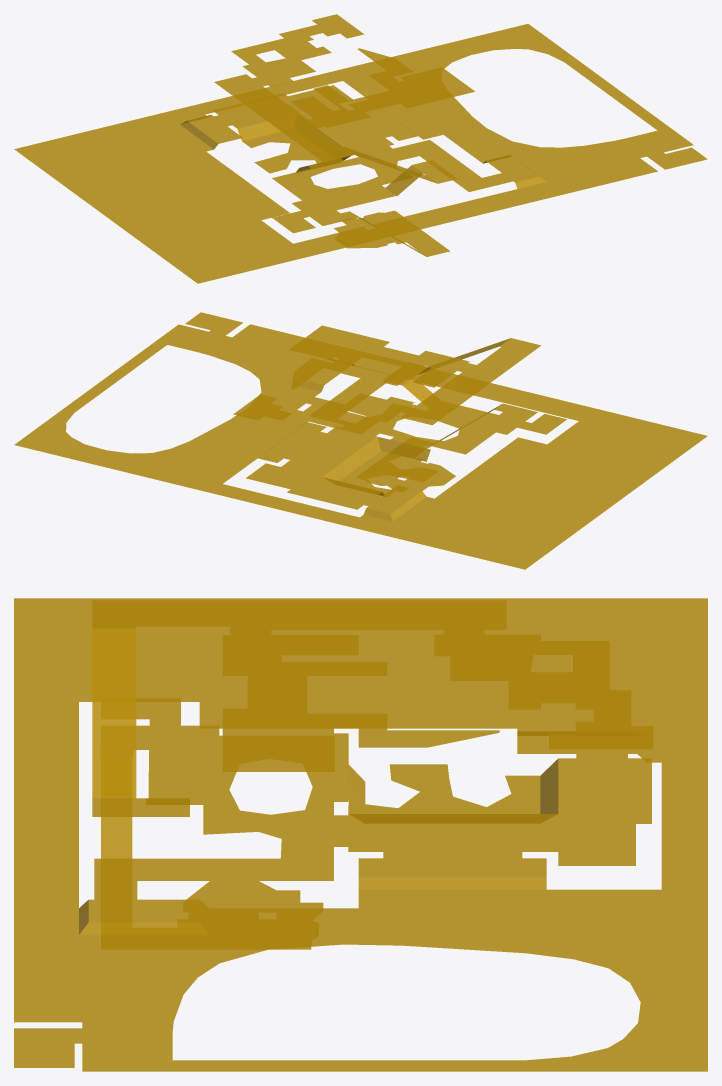
The model's file is NavMesh.fbx.
3 renders of one model, top to bottom at view 1: azimuth 30°, elevation 25°; view 2: azimuth 150°, elevation 25°; view 3: azimuth 270°, elevation 25°, orthographic. The views are drawn at different scales.
Visible parts, largest first — view 1: navmesh_exterior, navmesh_piscina, navmesh_cocina_comedor, navmesh_dormitorio, navmesh_sala, navmesh_estudio, navmesh_pasillo, navmesh_sotano, navmesh_gradas2doPiso; view 2: navmesh_exterior, navmesh_piscina, navmesh_sala, navmesh_cocina_comedor, navmesh_dormitorio, navmesh_estudio, navmesh_pasillo, navmesh_sotano, navmesh_gradas2doPiso; view 3: navmesh_piscina, navmesh_exterior, navmesh_sala, navmesh_cocina_comedor, navmesh_dormitorio, navmesh_estudio, navmesh_pasillo, navmesh_gradas2doPiso, navmesh_sotano, navmesh_gradas_sotano.
Boxes of the visible parts, <box> form: navmesh_exterior: <box>14,72,342,283</box>; navmesh_piscina: <box>293,24,707,256</box>; navmesh_cocina_comedor: <box>272,140,512,233</box>; navmesh_dormitorio: <box>291,48,474,127</box>; navmesh_sala: <box>212,85,393,173</box>; navmesh_estudio: <box>231,14,363,86</box>; navmesh_pasillo: <box>214,74,353,162</box>; navmesh_sotano: <box>334,210,449,256</box>; navmesh_gradas2doPiso: <box>343,146,457,195</box>; navmesh_exterior: <box>211,408,707,569</box>; navmesh_piscina: <box>14,312,595,492</box>; navmesh_sala: <box>246,428,438,509</box>; navmesh_cocina_comedor: <box>330,365,566,454</box>; navmesh_dormitorio: <box>289,325,469,389</box>; navmesh_estudio: <box>233,393,413,434</box>; navmesh_pasillo: <box>400,338,541,425</box>; navmesh_sotano: <box>367,445,455,490</box>; navmesh_gradas2doPiso: <box>383,338,510,401</box>; navmesh_piscina: <box>14,702,707,1071</box>; navmesh_exterior: <box>14,598,707,889</box>; navmesh_sala: <box>348,754,651,865</box>; navmesh_cocina_comedor: <box>94,698,348,899</box>; navmesh_dormitorio: <box>222,635,499,771</box>; navmesh_estudio: <box>434,634,653,749</box>; navmesh_pasillo: <box>92,600,506,634</box>; navmesh_gradas2doPiso: <box>92,628,189,816</box>; navmesh_sotano: <box>186,881,323,949</box>; navmesh_gradas_sotano: <box>101,817,132,858</box>.
Bounding box in the file's own units: 2293 × 520 × 1420.
